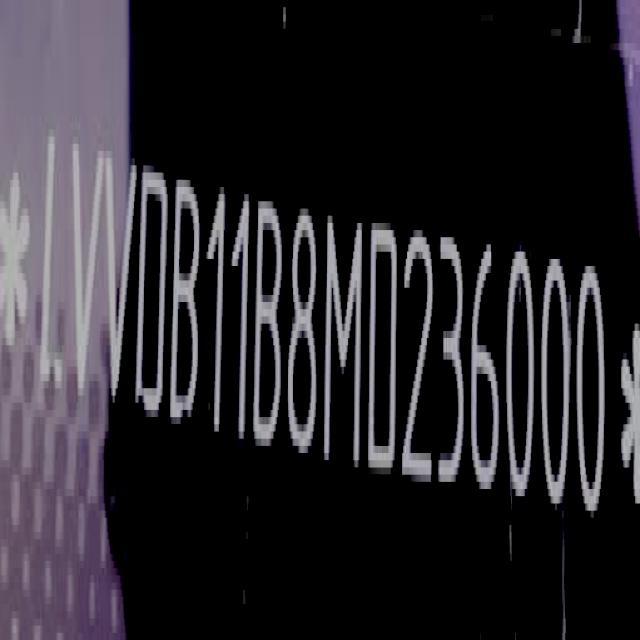0: (542, 258, 572, 515), (508, 249, 536, 505), (578, 267, 606, 518)
1: (206, 181, 228, 441), (230, 186, 249, 444)
2: (405, 232, 436, 494)
3: (440, 233, 466, 496)
6: (471, 240, 500, 500)
8: (291, 202, 320, 464)
B: (173, 171, 204, 431), (256, 192, 286, 454)
D: (368, 215, 400, 483), (136, 157, 168, 424)
L: (40, 132, 70, 400)
M: (324, 207, 364, 476)
V: (102, 143, 136, 416), (70, 137, 104, 406)
